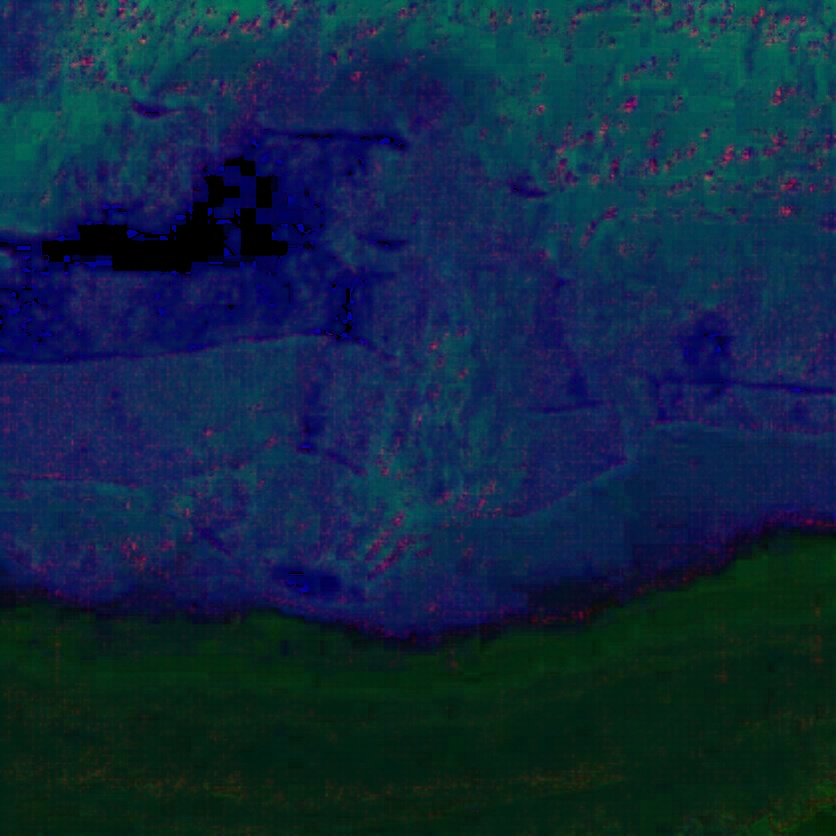rip_current: (306, 121, 582, 610)
